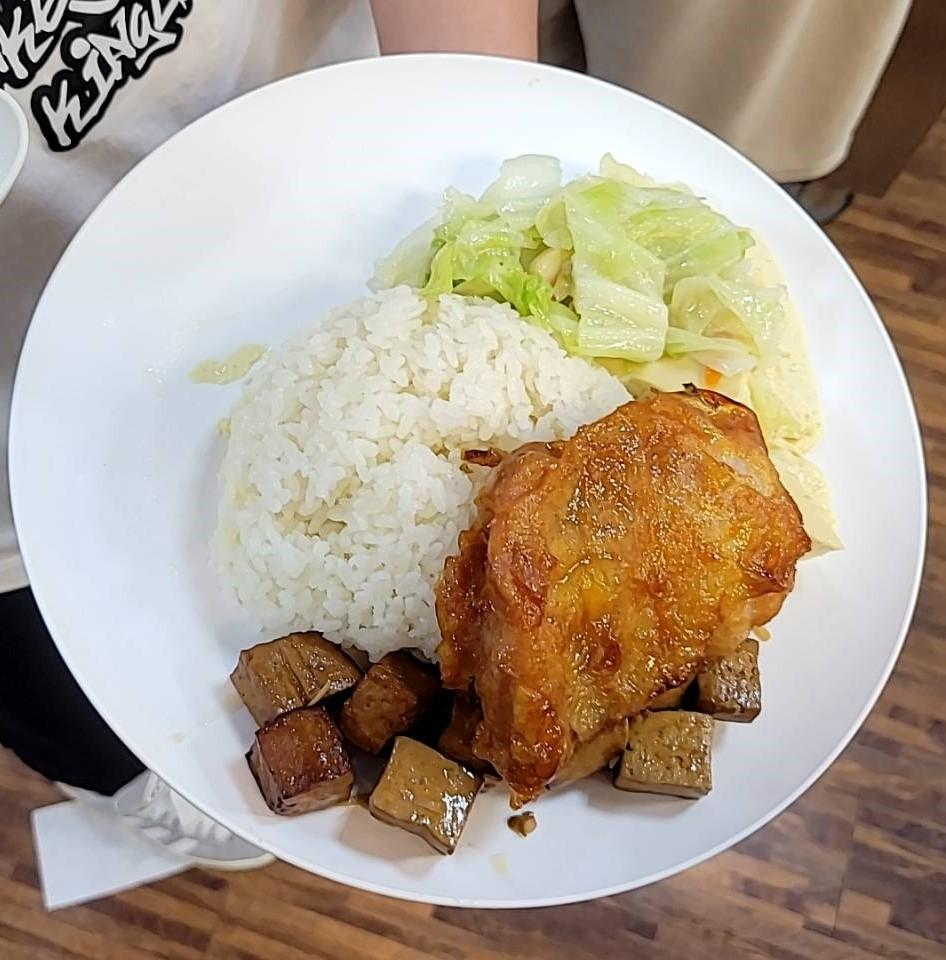big fried chicken leg: (16, 50, 944, 917)
big herbal chicken leg: (214, 294, 630, 647)
braised fish fillet: (222, 628, 766, 858), (410, 146, 811, 386), (748, 358, 841, 559)
braised pork: (432, 382, 800, 802)
